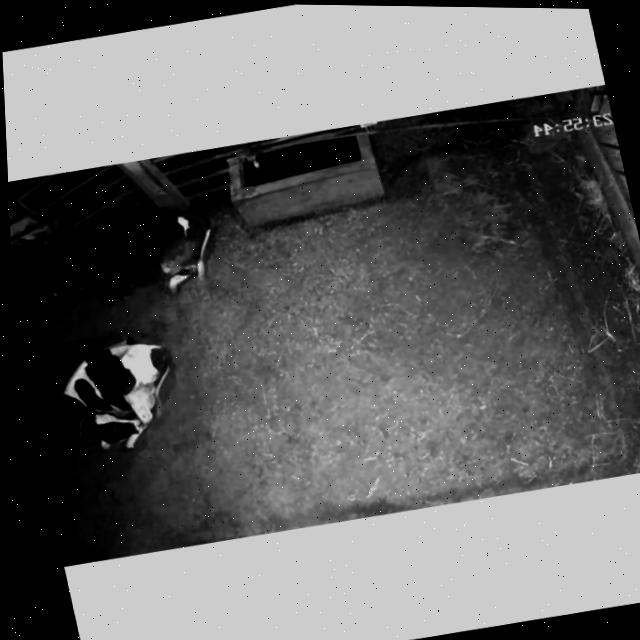lay: (11, 180, 238, 339), (36, 315, 196, 475)
